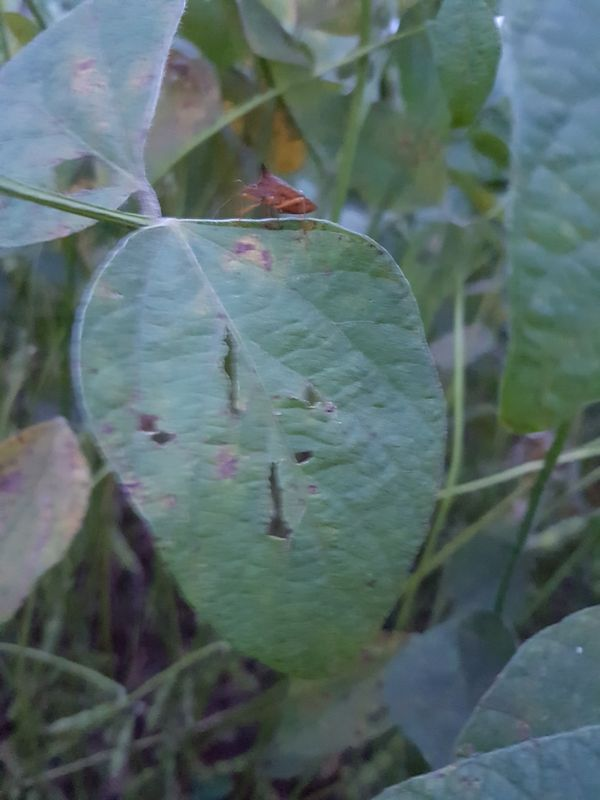Euschistus_heros_adulto: (216, 151, 332, 234)
